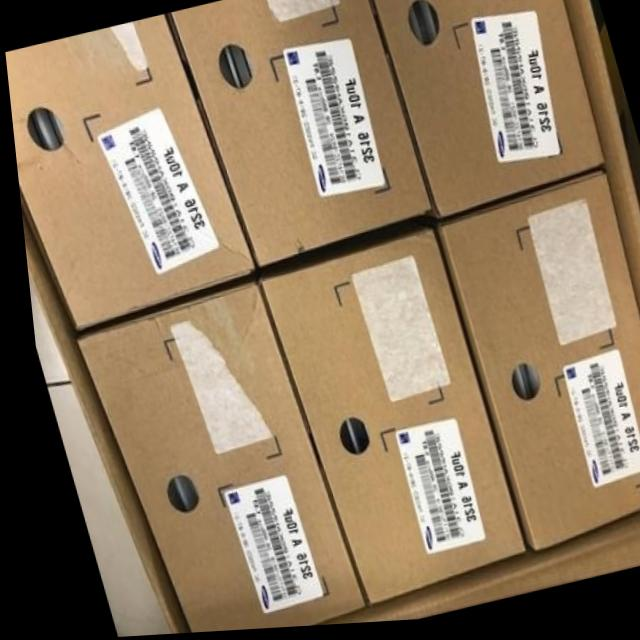box: (253, 223, 513, 611), (67, 282, 353, 634), (432, 172, 640, 558), (5, 21, 253, 335), (166, 0, 431, 282), (371, 0, 599, 224)
